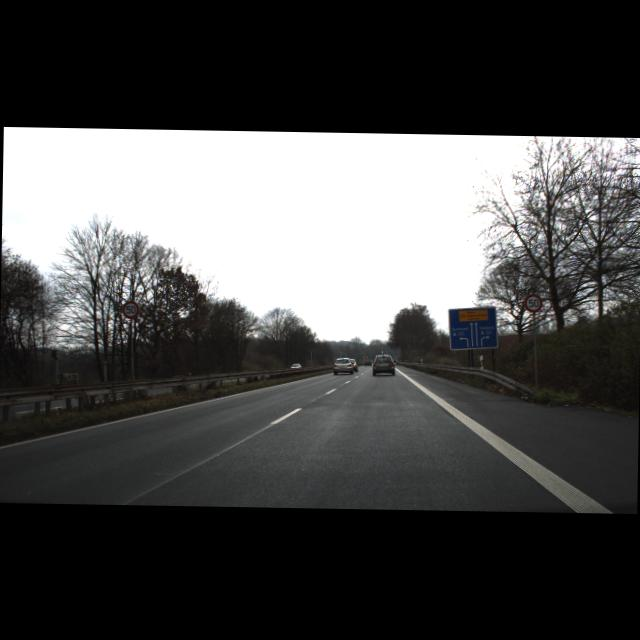prohibitory: (523, 293, 542, 312), (121, 300, 139, 318)
